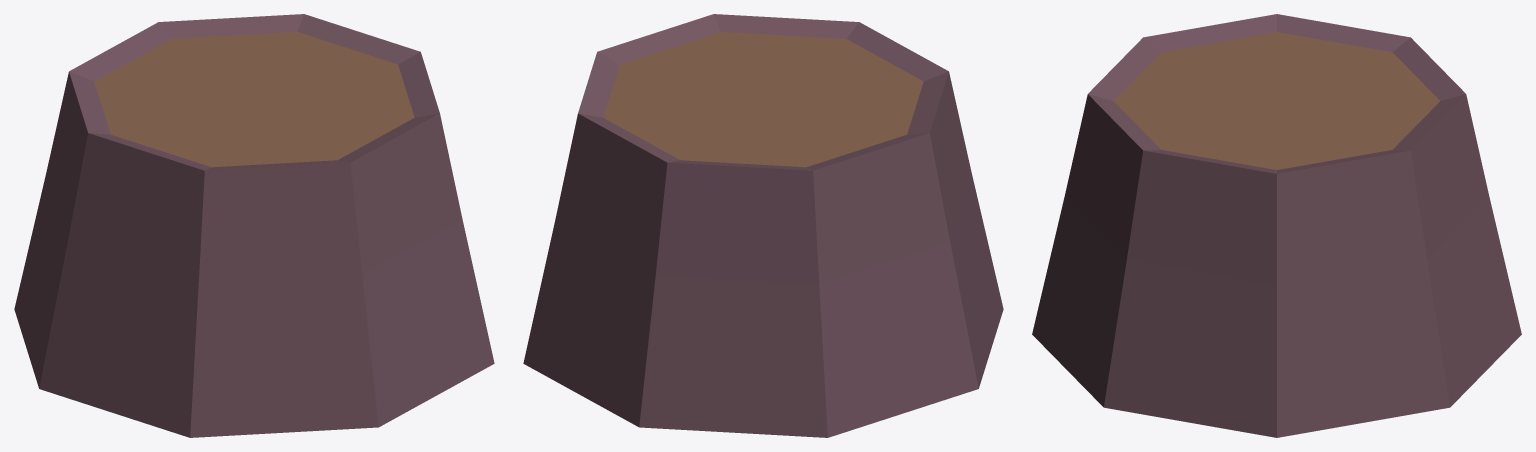
File: Tronco.fbx
3 views of the same model, side by side, from view 1: azimuth 30°, elevation 25°; view 2: azimuth 150°, elevation 25°; view 3: azimuth 270°, elevation 25° (orthographic).
Parts seen in each view (by area): view 1: Cylinder.007; view 2: Cylinder.007; view 3: Cylinder.007.
Boxes of the visible parts, x1,y1,x2,y2 form: Cylinder.007: [14, 14, 494, 437]; Cylinder.007: [523, 14, 1003, 437]; Cylinder.007: [1032, 14, 1521, 437].
Size of the model in its own units: 292 by 158 by 292.
